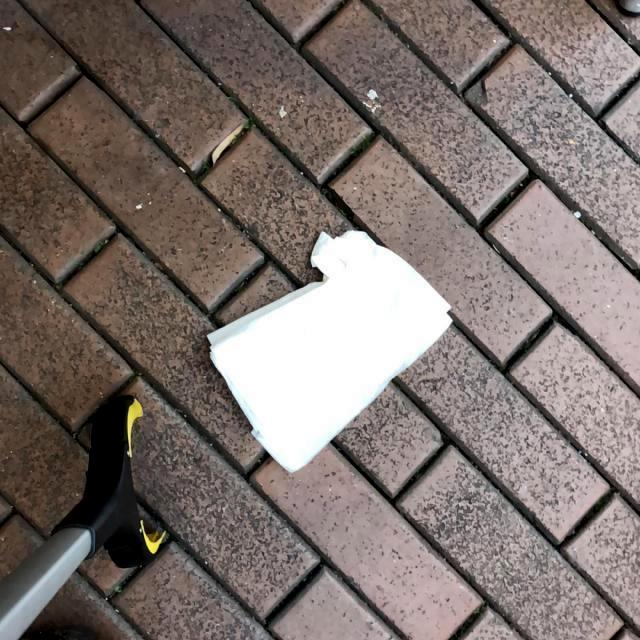Paper: (203, 229, 454, 475)
